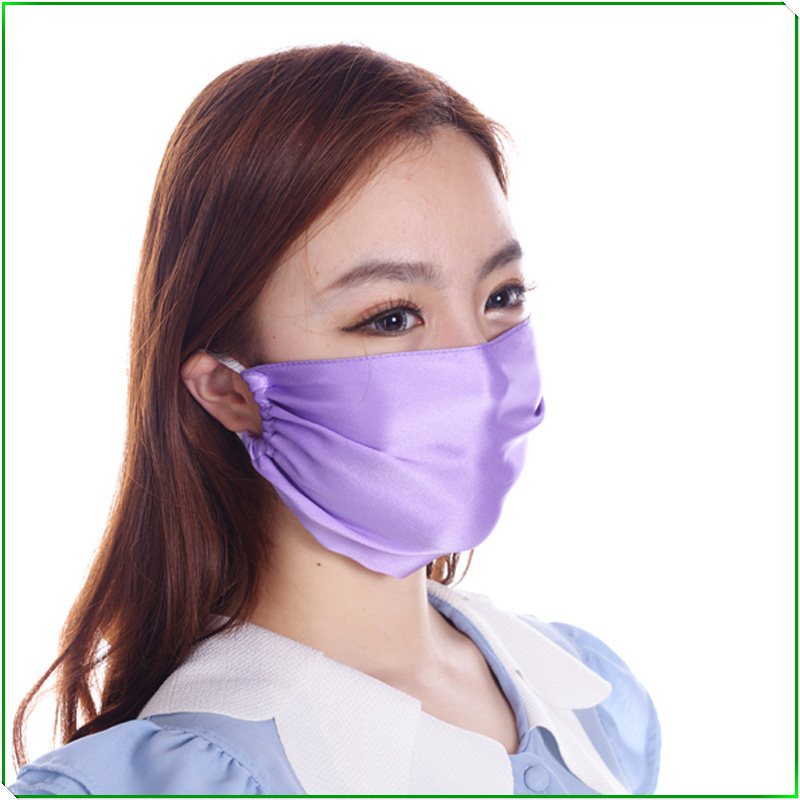face_mask: (261, 192, 544, 575)
